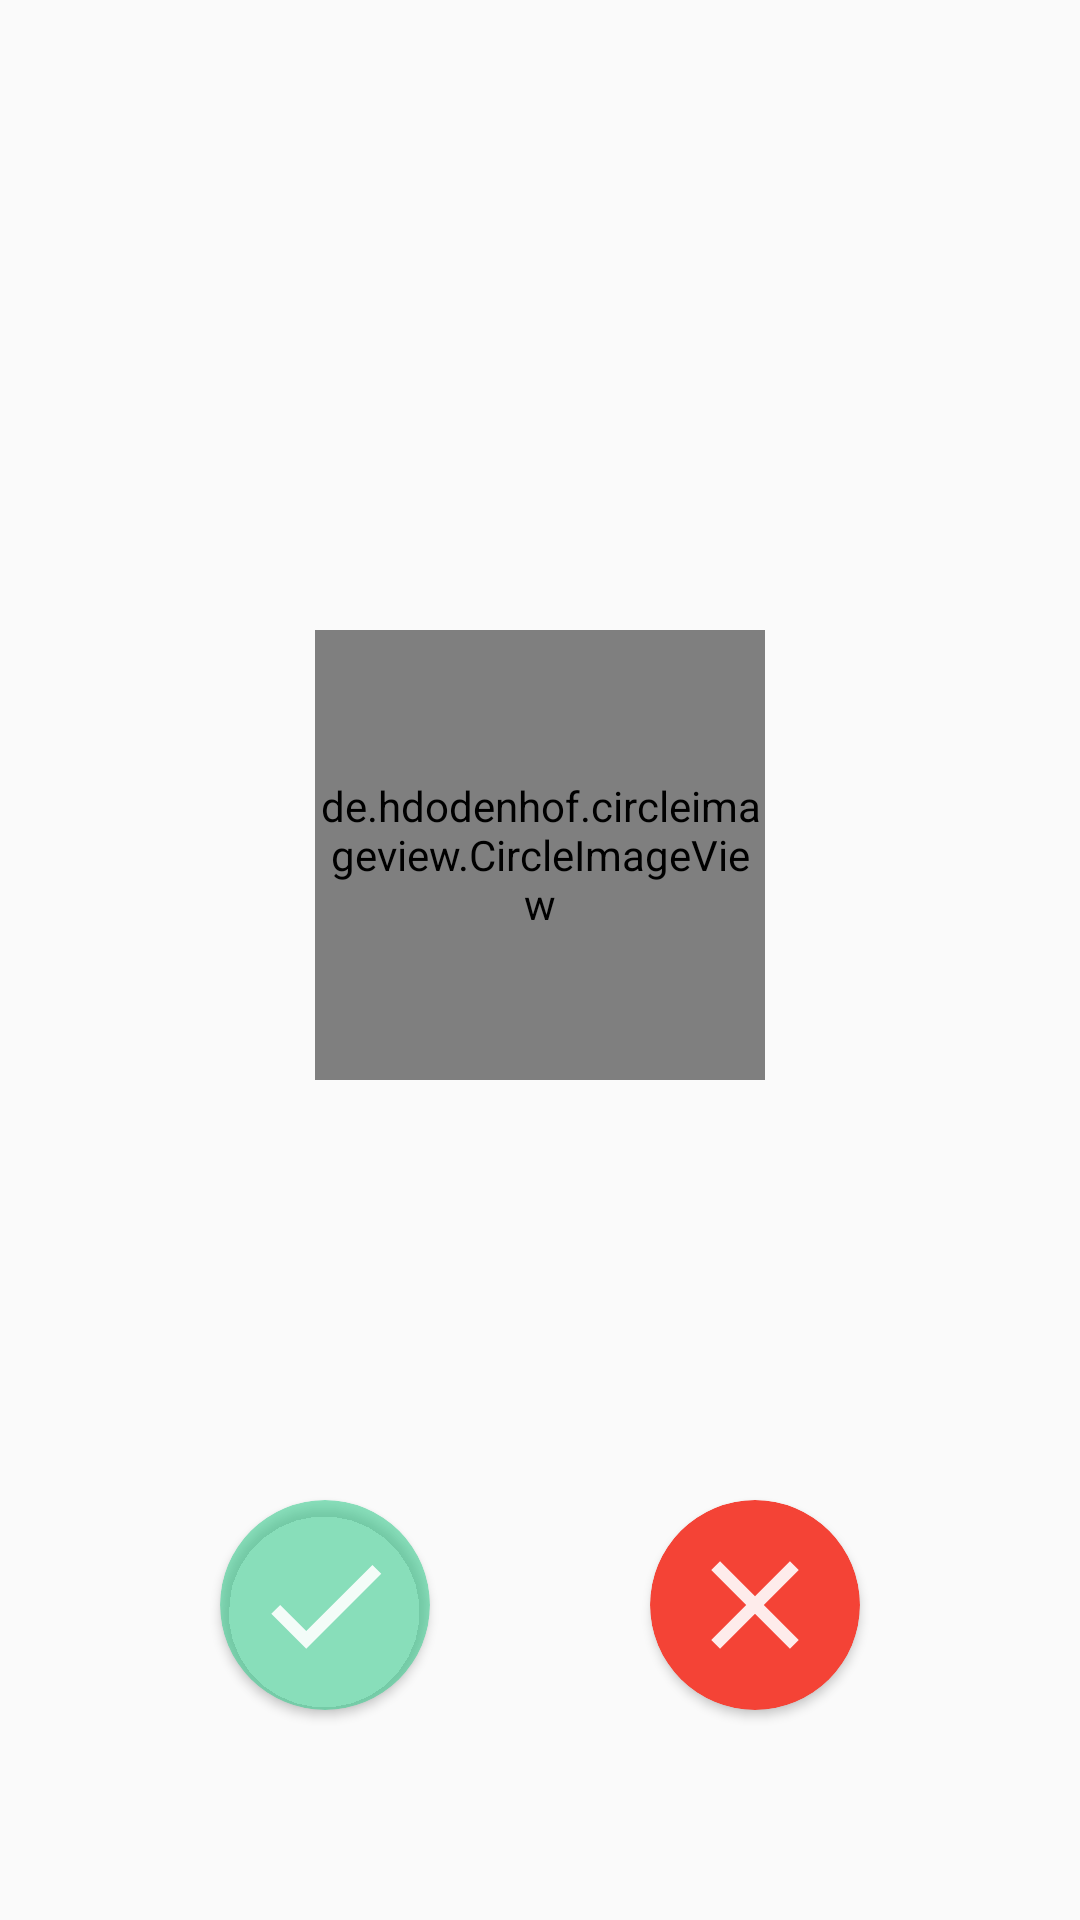

Named icons in this screenshot (1080 × 1920) and their bounding boxes, (x1, y1, x2, y2):
check: (271, 1565, 381, 1649)
clear: (711, 1561, 799, 1649)
